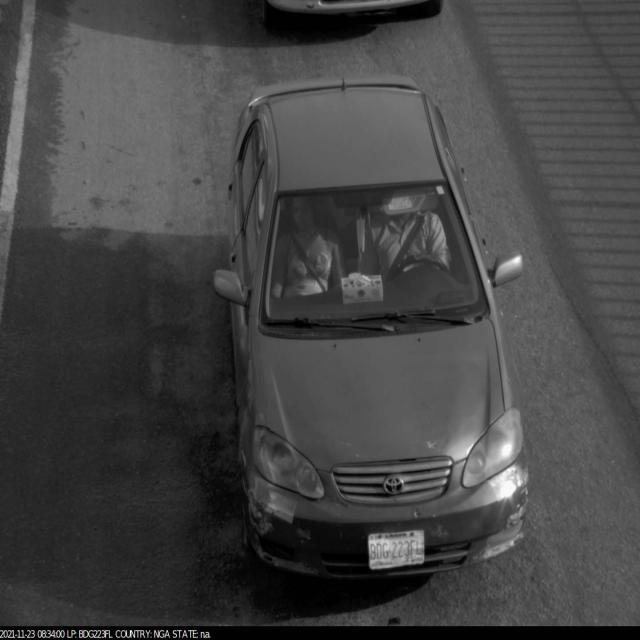windshield: (257, 177, 493, 342)
